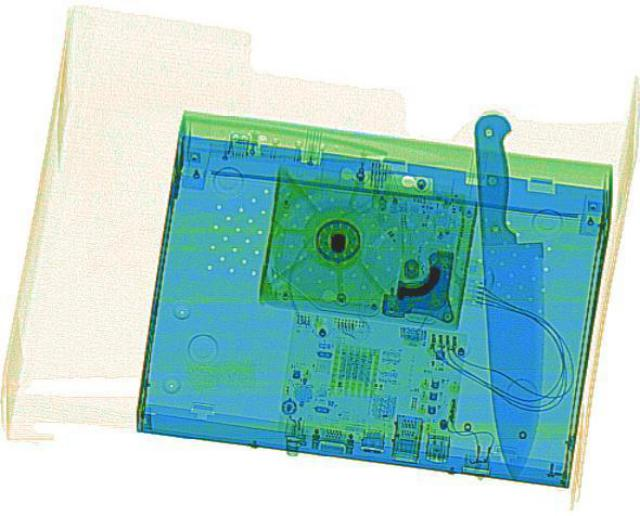Knife: (476, 109, 550, 479)
